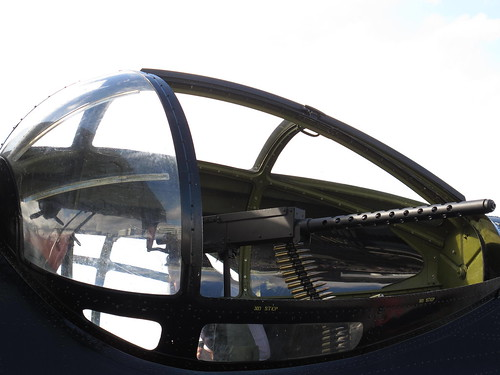weapon: (179, 175, 500, 321)
